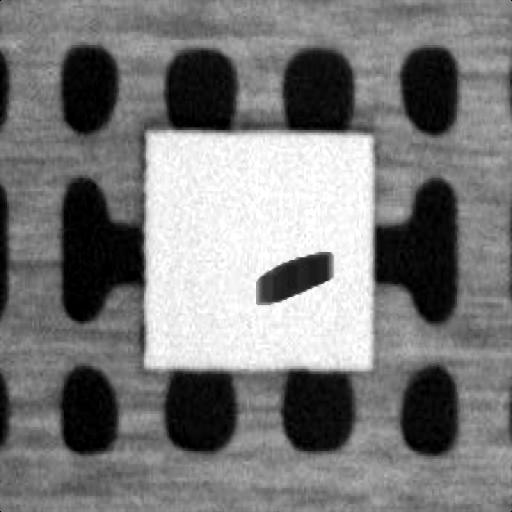DIE_INK: (366, 162, 507, 206)
